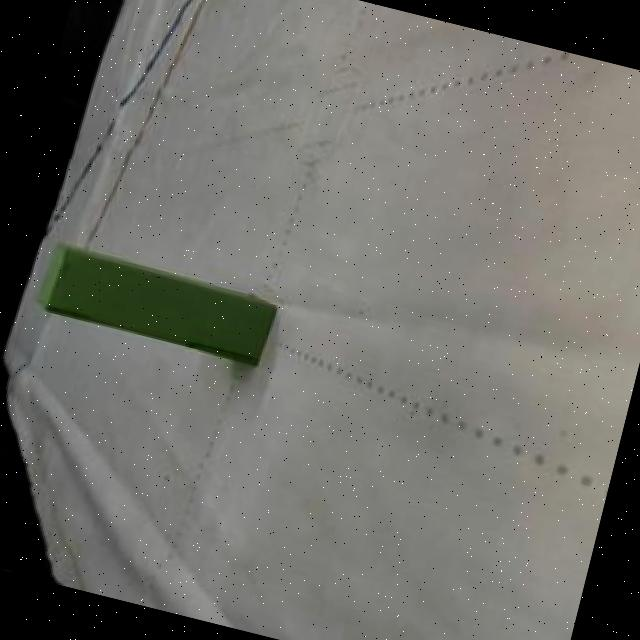greenbox: (31, 237, 278, 368)
